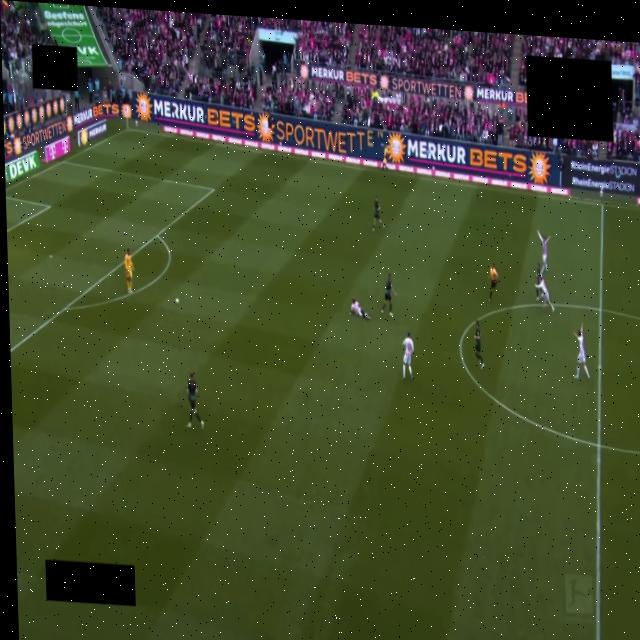ball: (176, 299, 179, 304)
player: (187, 372, 203, 428), (574, 325, 589, 379), (381, 273, 396, 316), (536, 278, 554, 311), (402, 333, 414, 378), (538, 230, 550, 272), (474, 320, 484, 368), (124, 248, 134, 294), (350, 298, 371, 319), (373, 197, 384, 231), (535, 264, 542, 300)
referee: (489, 263, 498, 301)
